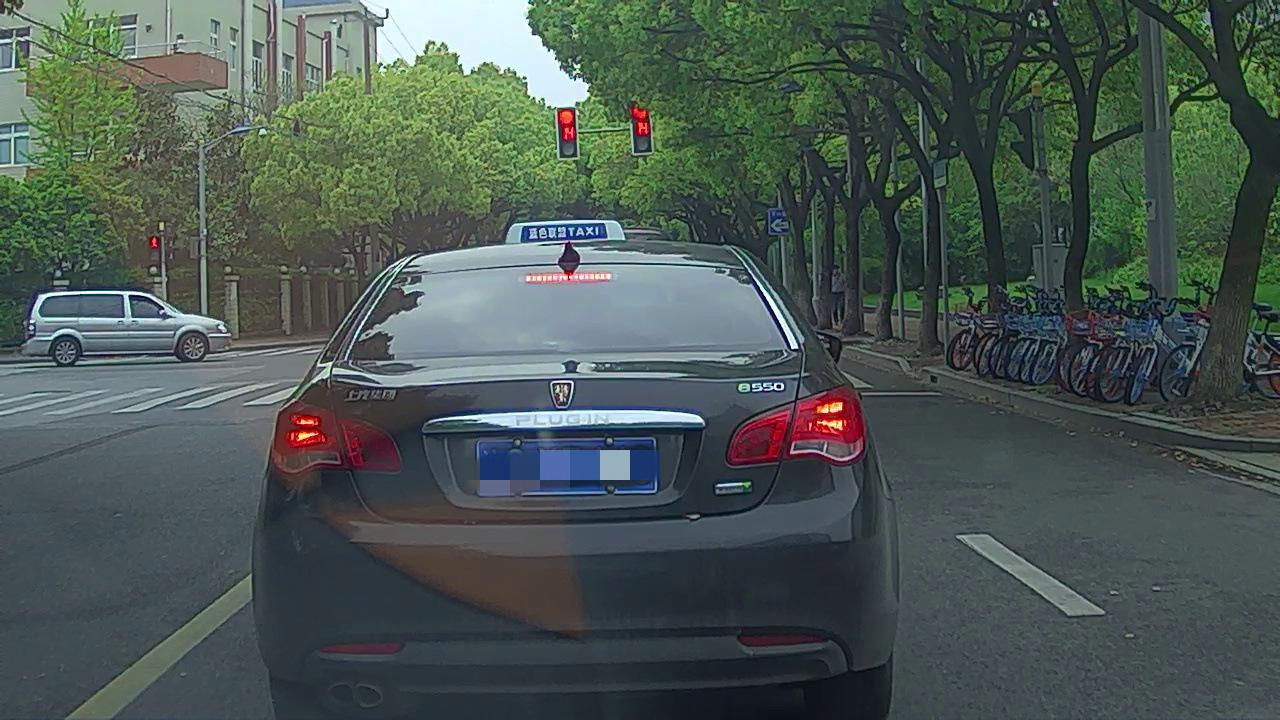traffic_light: (630, 107, 654, 155), (557, 108, 578, 159)
